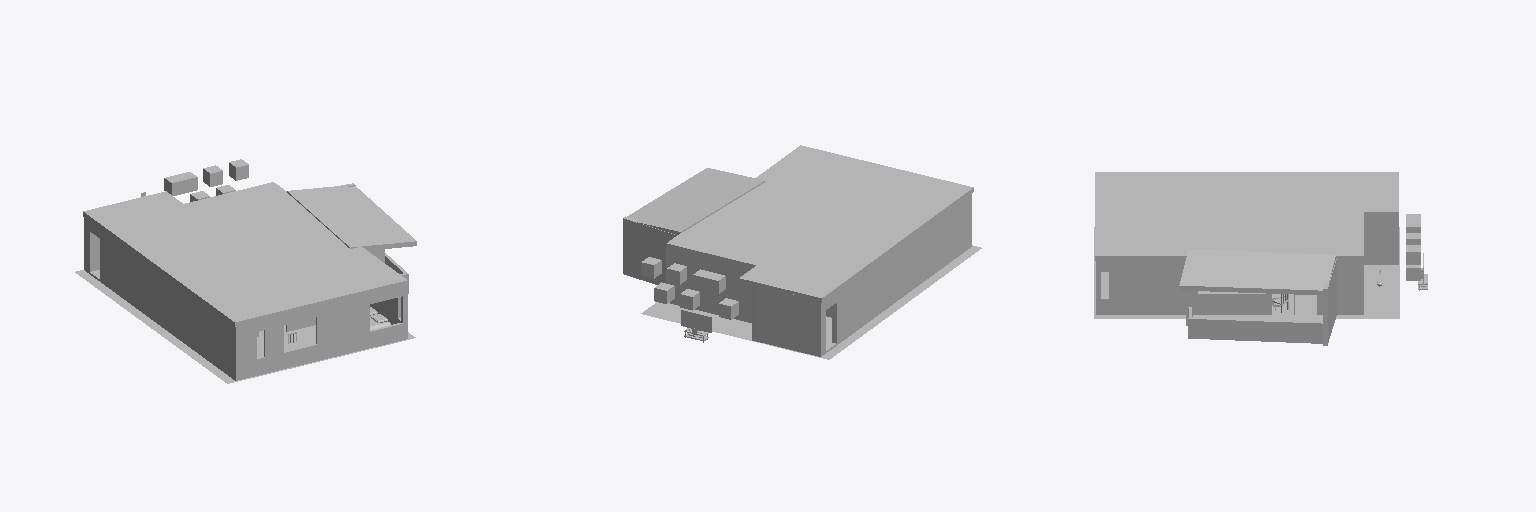
File: OttoBrandt_2019-01-15_5.obj
3 renders of one model, left to right at view 1: azimuth 30°, elevation 25°; view 2: azimuth 150°, elevation 25°; view 3: azimuth 270°, elevation 25°, orthographic.
Visible parts, largest first — view 1: roof_Cube.002, wall_outer_Cube, Floor_Plane; view 2: roof_Cube.002, wall_outer_Cube, Floor_Plane, bedroom_desk.001_Cube.016; view 3: roof_Cube.002, wall_outer_Cube, Floor_Plane.
Boxes of the visible parts, x1,y1,x2,y2 form: roof_Cube.002: [83, 182, 416, 326]; wall_outer_Cube: [84, 183, 408, 380]; Floor_Plane: [75, 270, 415, 383]; roof_Cube.002: [627, 145, 973, 302]; wall_outer_Cube: [623, 194, 971, 356]; Floor_Plane: [641, 245, 981, 359]; bedroom_desk.001_Cube.016: [681, 310, 711, 342]; roof_Cube.002: [1095, 172, 1398, 295]; wall_outer_Cube: [1096, 217, 1398, 345]; Floor_Plane: [1094, 227, 1399, 321].
Size of the model in its own units: 11.35 by 2.83 by 15.05.